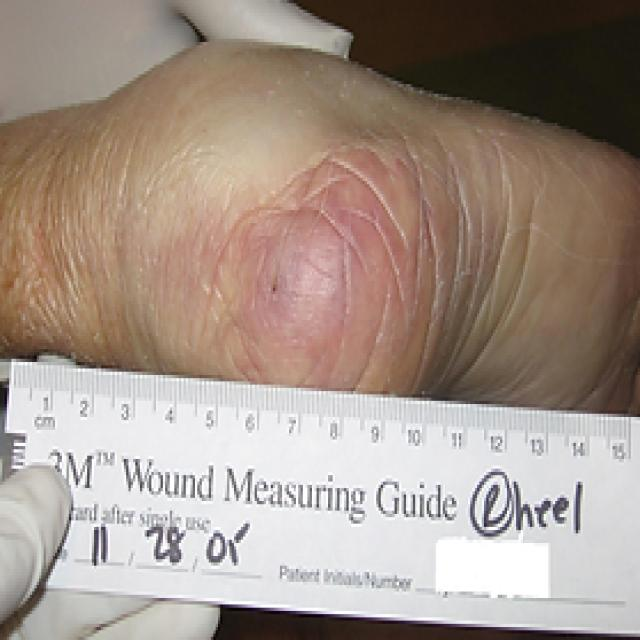stage-1: (246, 152, 409, 356)
